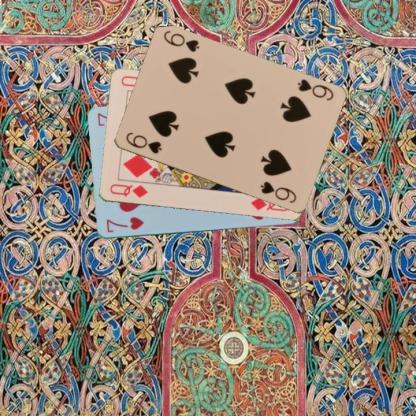6s: (122, 130, 163, 156), (294, 76, 335, 102)
7h: (104, 214, 144, 234)
Qd: (107, 182, 149, 199)
